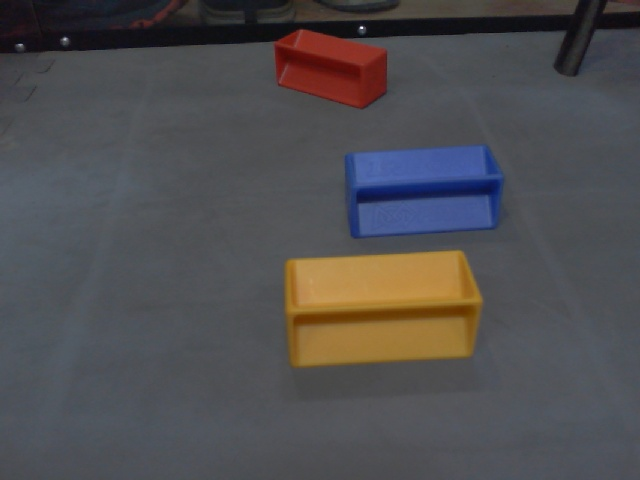BlueSample: (342, 142, 506, 240)
RedSample: (267, 27, 390, 110)
YellowSample: (280, 249, 484, 369)
